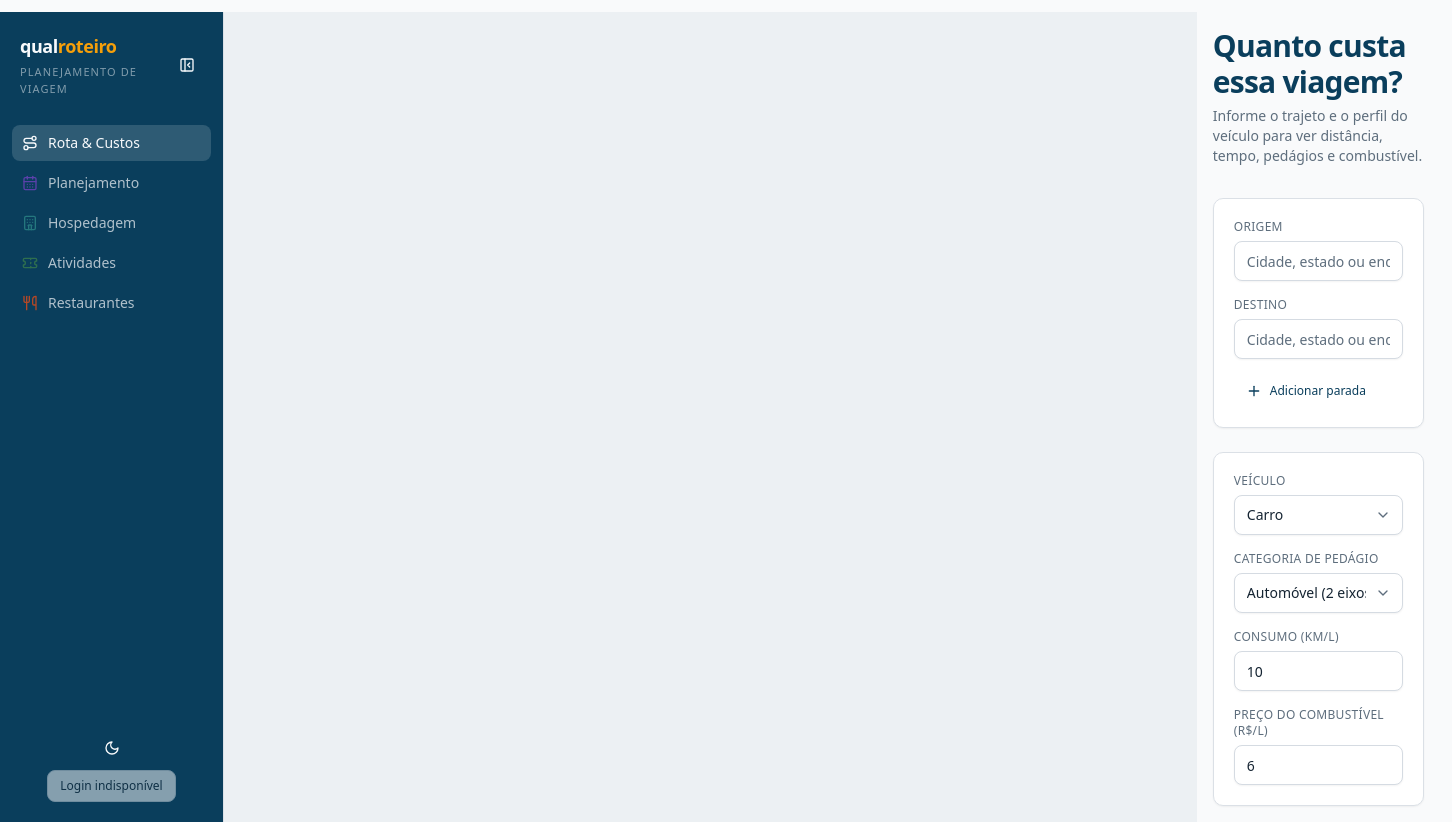
Tela 1 — nova consulta › submits the contract body and shows the result screen
The image size is (1452, 822).
Type "São Paulo, SP" into the dropdown labelled "Origem".
click(1318, 261); type("São Paulo, SP")  # box 1234,241 -> 1403,281
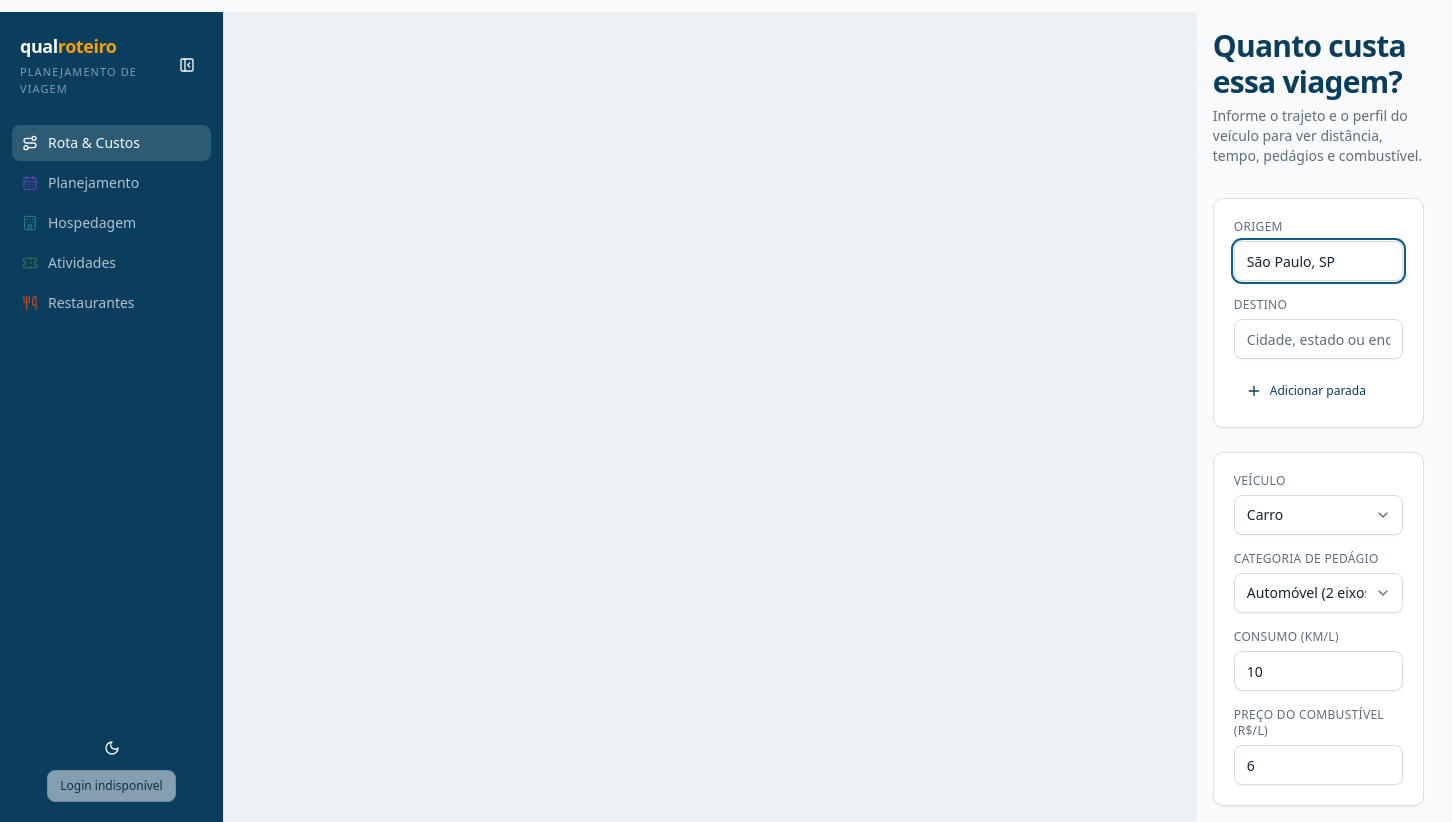
Type "Rio de Janeiro, RJ" into the dropdown labelled "Destino".
click(1318, 339); type("Rio de Janeiro, RJ")  # box 1234,319 -> 1403,359
(page scrolled)
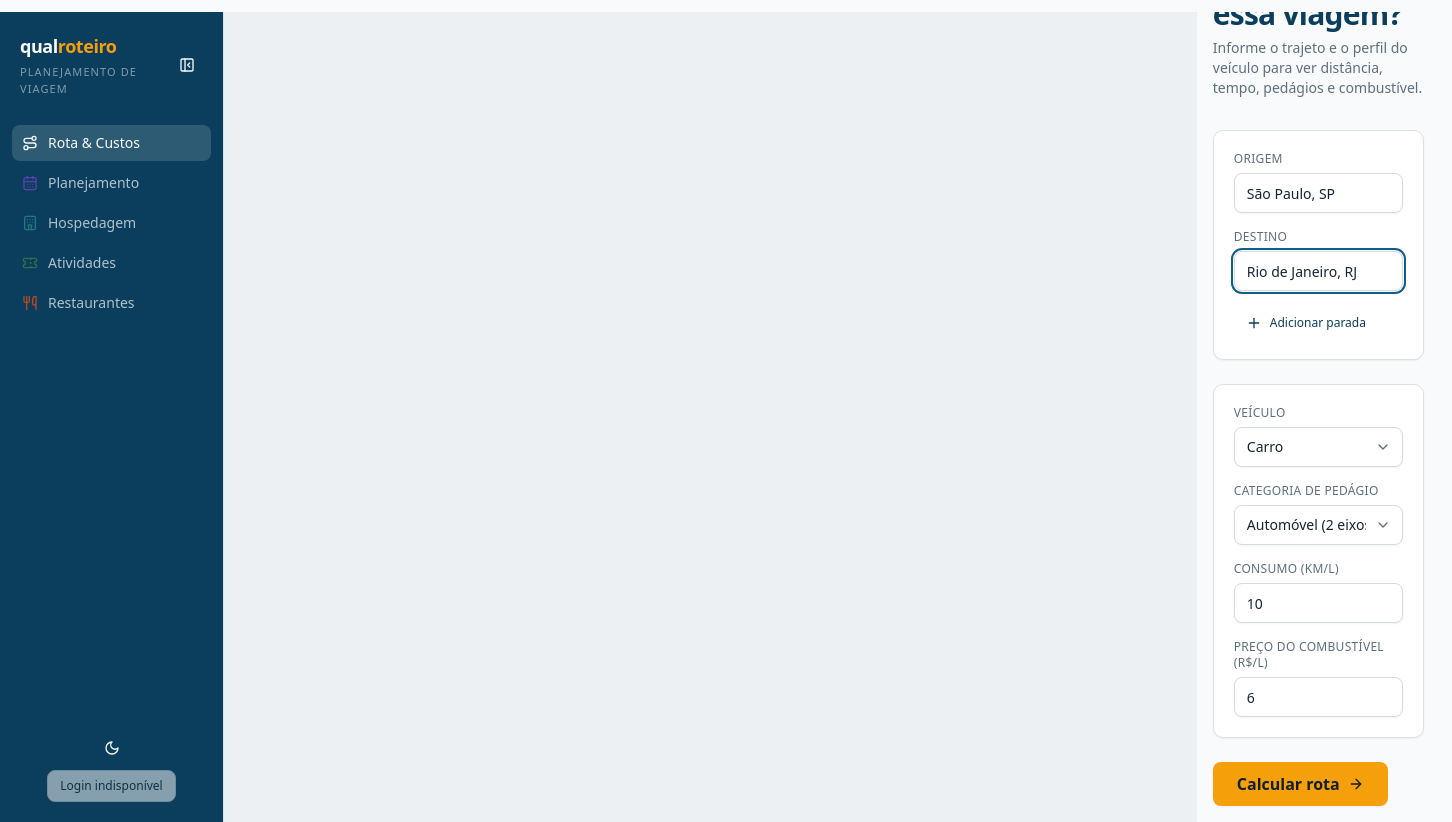
Click the button "Calcular rota".
click(1300, 784)  # box 1213,762 -> 1388,806
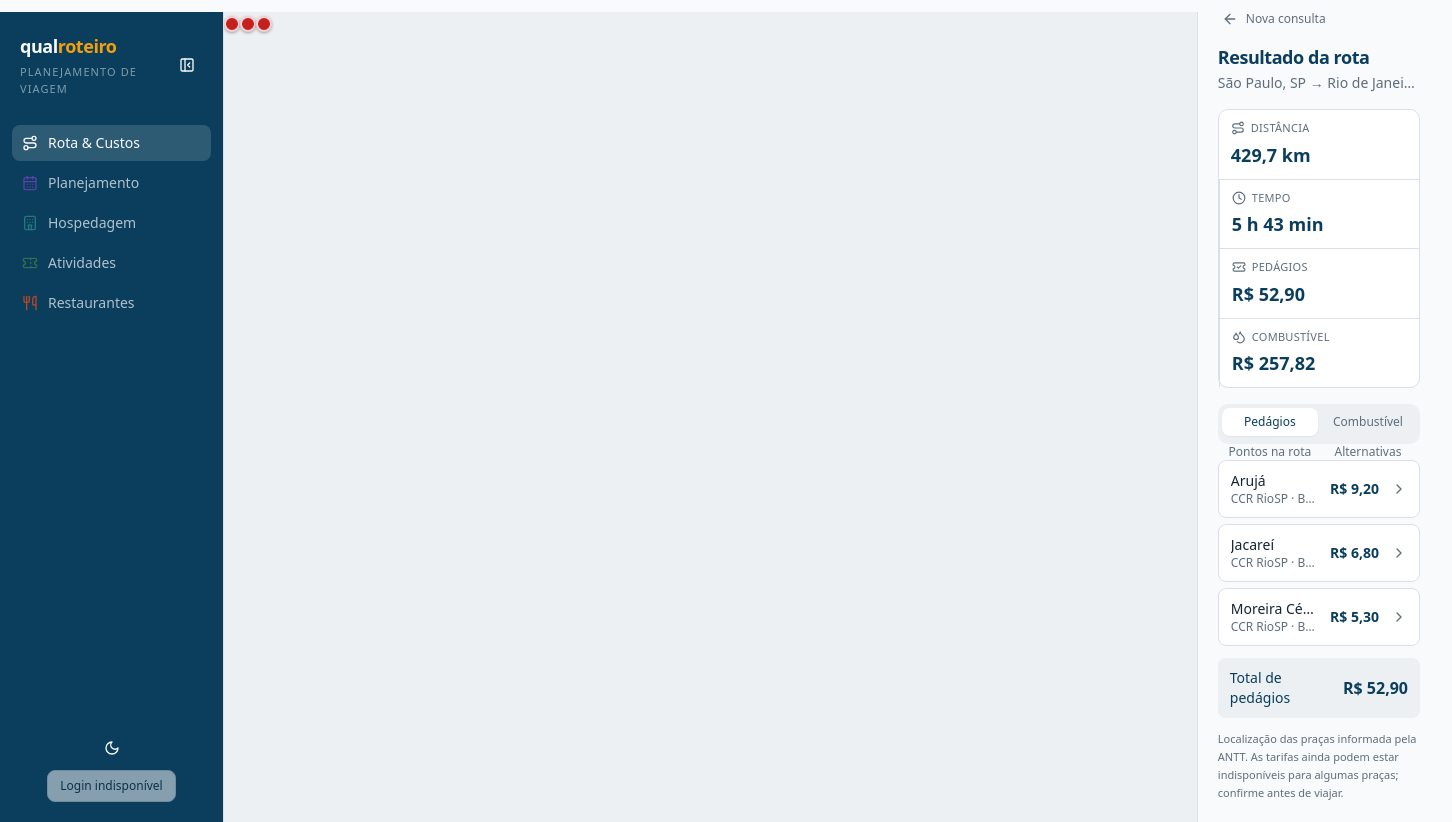
Now the heading "Resultado da rota" is shown, box 1218,45 -> 1369,69
